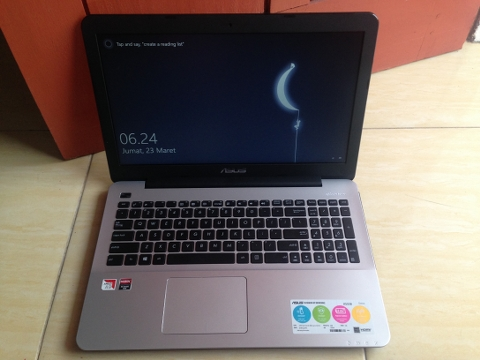pc: (75, 13, 390, 351)
